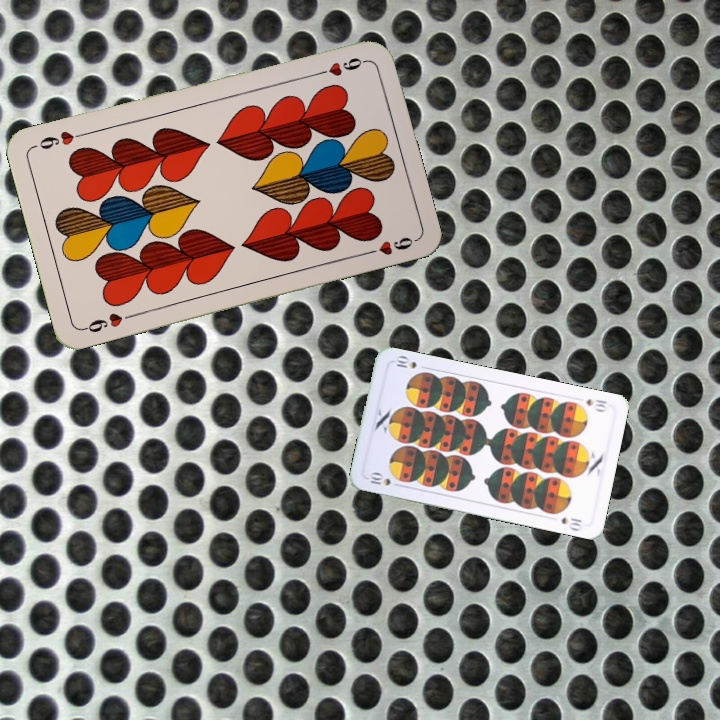H9: (79, 309, 137, 335), (311, 53, 369, 79)
S10: (363, 469, 394, 489), (582, 395, 610, 414)
